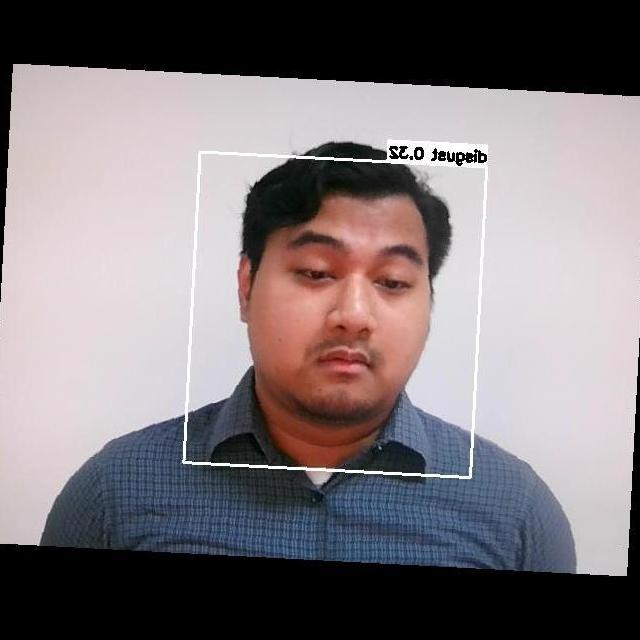Fear: (237, 210, 436, 412)
